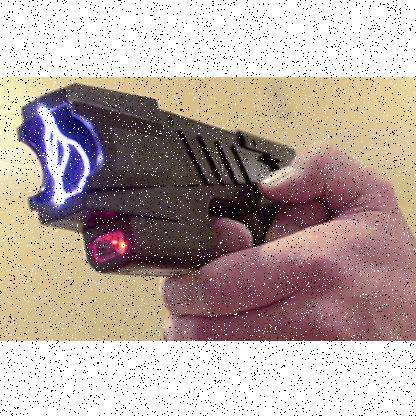gun: (16, 80, 300, 274)
